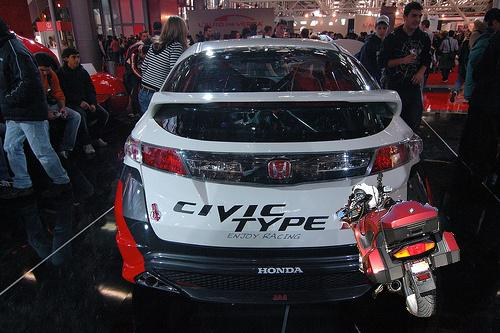tampered: (337, 173, 460, 317)
